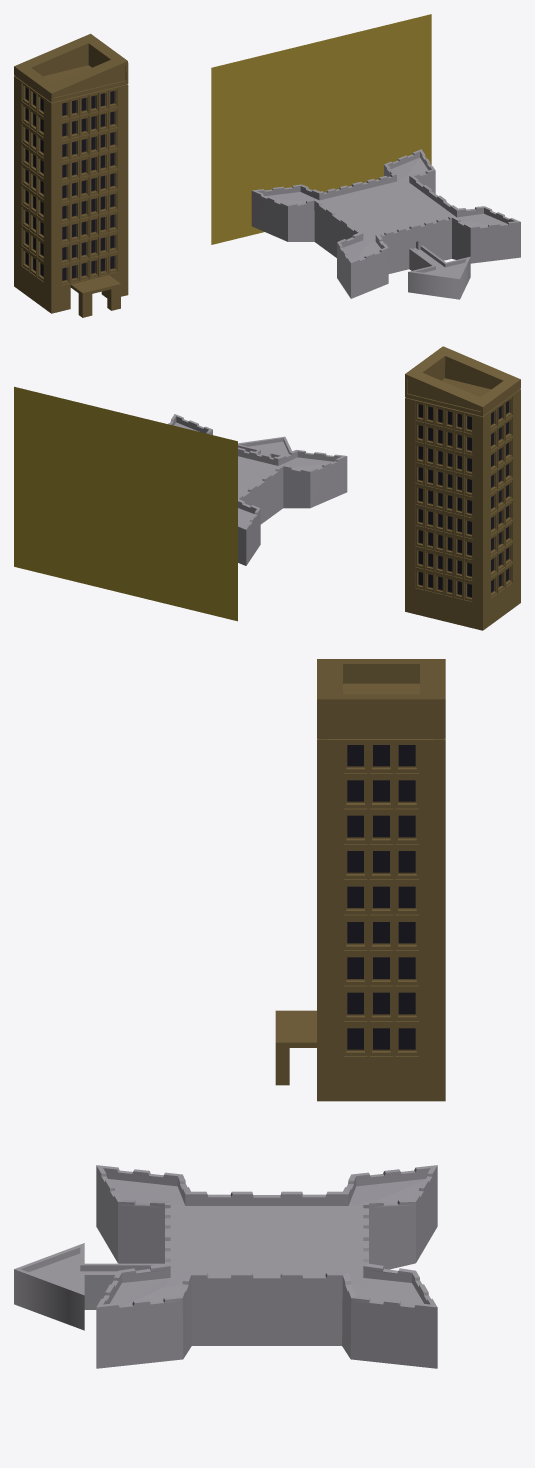
Rendered from collab2.FBX.
3 renders of one model, top to bottom at view 1: azimuth 30°, elevation 25°; view 2: azimuth 150°, elevation 25°; view 3: azimuth 270°, elevation 25°, orthographic. The views are drawn at different scales.
Parts seen in each view (by area): view 1: Plane001, Box003, Box002; view 2: Plane001, Box003, Box002; view 3: Box002, Box003.
Boxes of the visible parts, left/top/right/bottom form: Plane001: left=211, top=14, right=431, bottom=244; Box003: left=14, top=33, right=128, bottom=317; Box002: left=251, top=149, right=520, bottom=299; Plane001: left=14, top=386, right=237, bottom=621; Box003: left=405, top=346, right=520, bottom=630; Box002: left=168, top=414, right=347, bottom=565; Box002: left=14, top=1165, right=437, bottom=1368; Box003: left=275, top=659, right=445, bottom=1101.
Size of the model in its own units: 344 by 196 by 200.
